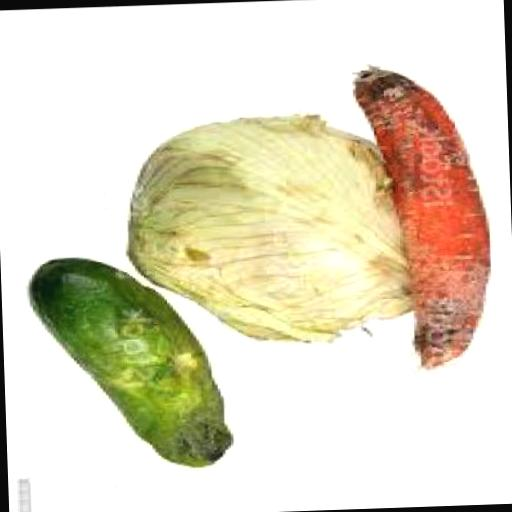biodegradable: (124, 112, 417, 351), (28, 252, 236, 473), (351, 61, 496, 370)
